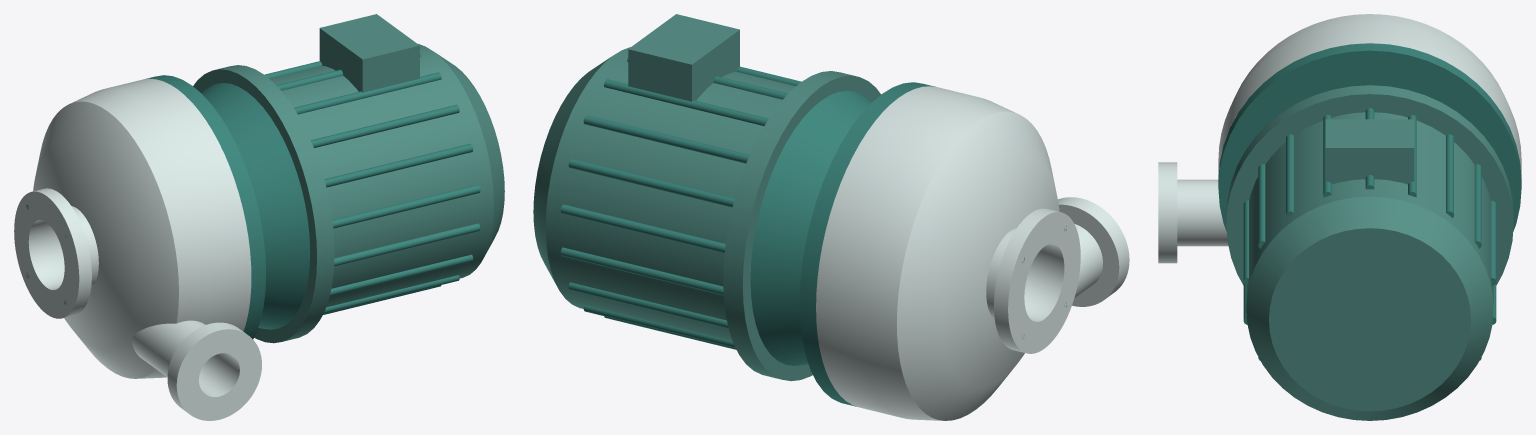
The picture shows the model from 3 angles, left to right: view 1: azimuth 30°, elevation 25°; view 2: azimuth 150°, elevation 25°; view 3: azimuth 270°, elevation 25°; orthographic projection. The views are drawn at different scales.
Visible parts, largest first — view 1: 泵体_圆弧壳与轴向进液口, 电机_带筋机壳, 连接座_短连接段, 电机_连接法兰, 接口_朝上出液法兰, 电机_接线盒, 连接座_泵壳连接环, 接口_偏置竖向出液管, 电机_圆弧尾罩, 电机_散热筋04, 电机_散热筋05, 电机_散热筋03 (+5 smaller); view 2: 泵体_圆弧壳与轴向进液口, 电机_带筋机壳, 连接座_短连接段, 电机_连接法兰, 电机_接线盒, 连接座_泵壳连接环, 接口_朝上出液法兰, 电机_圆弧尾罩, 电机_散热筋16, 电机_散热筋15, 电机_散热筋17, 电机_散热筋14 (+5 smaller); view 3: 电机_圆弧尾罩, 连接座_泵壳连接环, 电机_带筋机壳, 电机_连接法兰, 泵体_圆弧壳与轴向进液口, 电机_接线盒, 接口_偏置竖向出液管, 接口_朝上出液法兰, 电机_散热筋03, 电机_散热筋17, 电机_散热筋04, 电机_散热筋16 (+4 smaller).
Part boxes in pixels (left/top/right/bottom): 泵体_圆弧壳与轴向进液口: left=14, top=78, right=251, bottom=378; 电机_带筋机壳: left=269, top=44, right=493, bottom=307; 连接座_短连接段: left=201, top=83, right=310, bottom=329; 电机_连接法兰: left=193, top=65, right=334, bottom=343; 接口_朝上出液法兰: left=167, top=322, right=261, bottom=420; 电机_接线盒: left=319, top=14, right=419, bottom=92; 连接座_泵壳连接环: left=145, top=75, right=266, bottom=339; 接口_偏置竖向出液管: left=132, top=320, right=230, bottom=390; 电机_圆弧尾罩: left=435, top=52, right=504, bottom=256; 电机_散热筋04: left=324, top=143, right=473, bottom=187; 电机_散热筋05: left=332, top=184, right=480, bottom=228; 电机_散热筋03: left=311, top=104, right=459, bottom=147; 泵体_圆弧壳与轴向进液口: left=816, top=86, right=1080, bottom=420; 电机_带筋机壳: left=545, top=47, right=795, bottom=340; 连接座_短连接段: left=750, top=90, right=871, bottom=365; 电机_连接法兰: left=723, top=71, right=880, bottom=381; 电机_接线盒: left=628, top=14, right=739, bottom=101; 连接座_泵壳连接环: left=799, top=82, right=935, bottom=406; 接口_朝上出液法兰: left=1058, top=197, right=1129, bottom=306; 电机_圆弧尾罩: left=533, top=56, right=611, bottom=287; 电机_散热筋16: left=568, top=158, right=734, bottom=207; 电机_散热筋15: left=560, top=204, right=725, bottom=253; 电机_散热筋17: left=583, top=115, right=749, bottom=163; 电机_散热筋14: left=560, top=247, right=723, bottom=295; 电机_圆弧尾罩: left=1246, top=196, right=1493, bottom=420; 连接座_泵壳连接环: left=1218, top=43, right=1521, bottom=231; 电机_带筋机壳: left=1246, top=112, right=1493, bottom=303; 电机_连接法兰: left=1226, top=85, right=1513, bottom=285; 泵体_圆弧壳与轴向进液口: left=1218, top=14, right=1521, bottom=178; 电机_接线盒: left=1325, top=119, right=1414, bottom=184; 接口_偏置竖向出液管: left=1177, top=179, right=1228, bottom=246; 接口_朝上出液法兰: left=1158, top=162, right=1177, bottom=263; 电机_散热筋03: left=1286, top=134, right=1293, bottom=217; 电机_散热筋17: left=1446, top=134, right=1453, bottom=217; 电机_散热筋04: left=1258, top=164, right=1265, bottom=248; 电机_散热筋16: left=1474, top=164, right=1481, bottom=248.
Size of the model in its own units: 0.4598 by 0.294 by 0.345.
